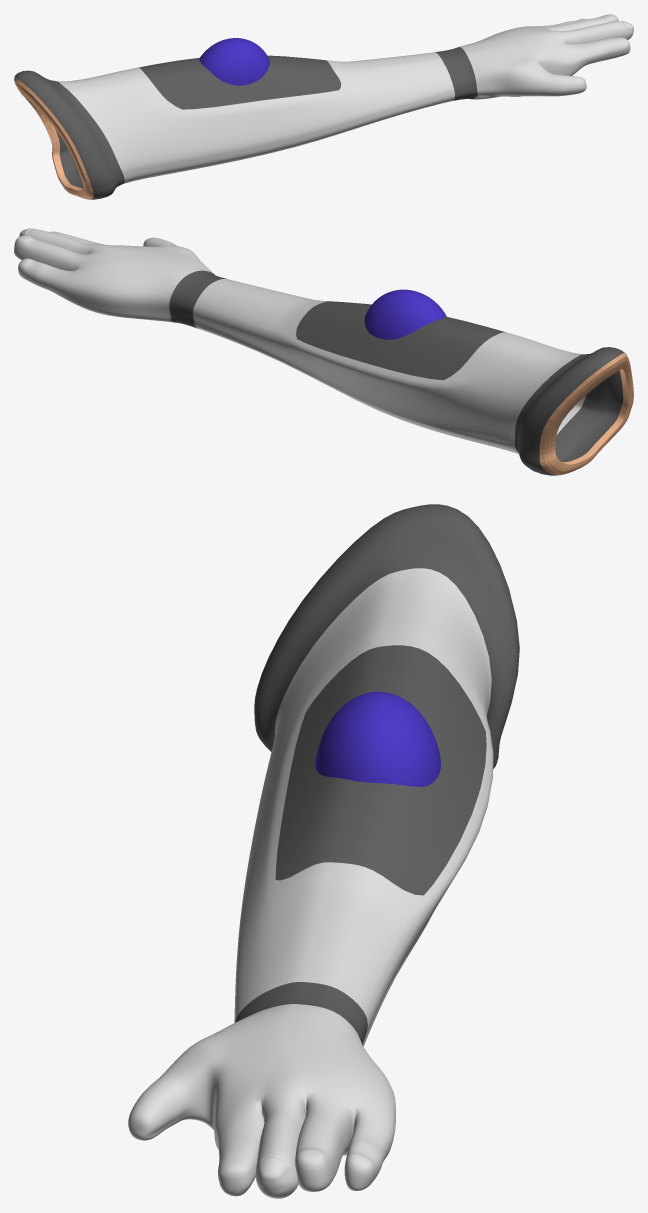
File: globes.fbx
3 renders of one model, top to bottom at view 1: azimuth 30°, elevation 25°; view 2: azimuth 150°, elevation 25°; view 3: azimuth 270°, elevation 25°, orthographic. The views are drawn at different scales.
Visible parts, largest first — view 1: Cylinder.003; view 2: Cylinder.003; view 3: Cylinder.003.
Part boxes in pixels (<box>): Cylinder.003: <box>14,14,633,199</box>; Cylinder.003: <box>14,228,633,475</box>; Cylinder.003: <box>128,504,519,1198</box>.
Bounding box in the file's own units: 201 × 39.96 × 59.24.
